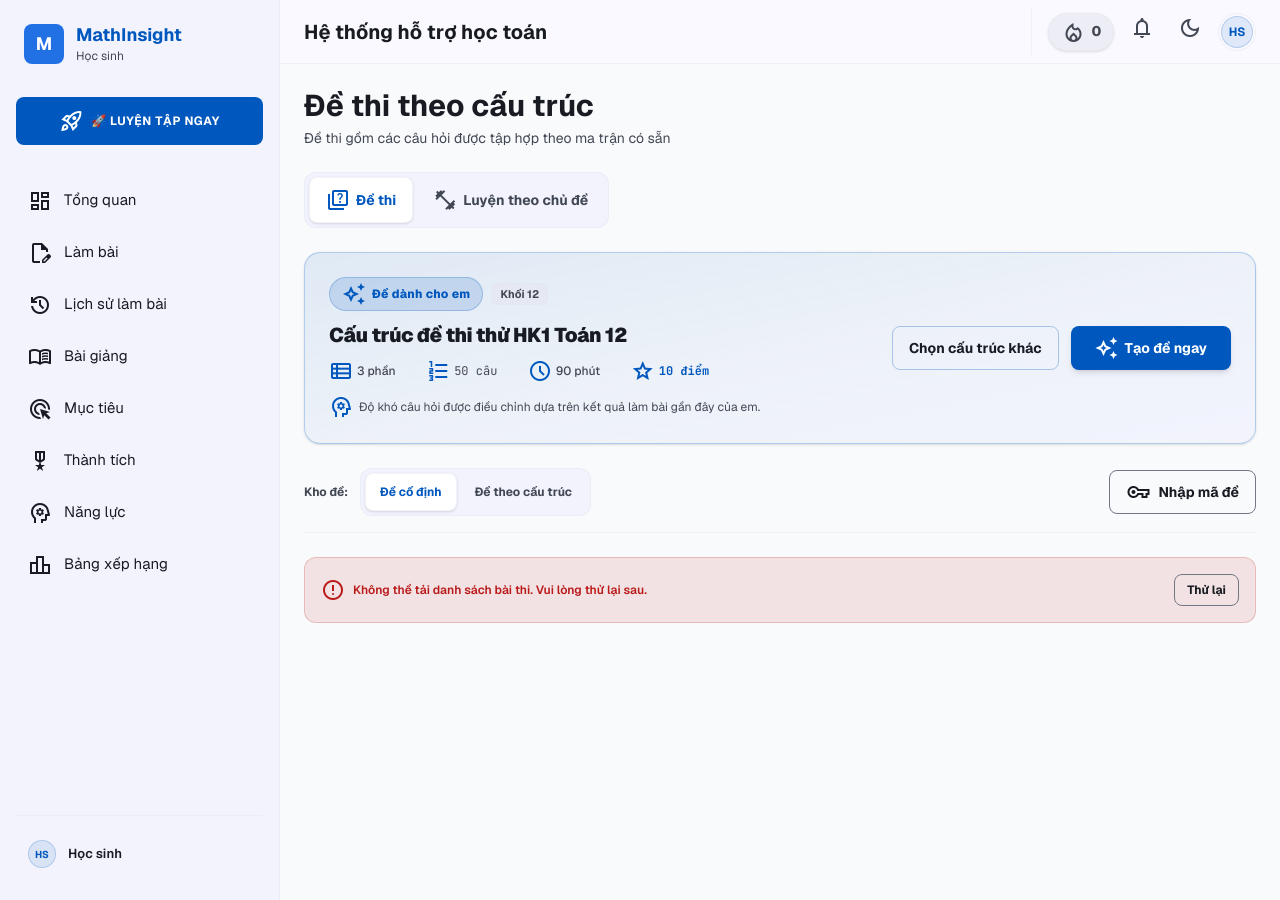
SharedBlueprintExamDiscoveryPage - Redesign & Featured Adaptive Panel › isolates error state to active tab and recovers on tab switch
Expected: the text "Không thể tải danh sách bài thi. Vui lòng thử lại sau." is shown, 353,582 -> 647,598
Click the tab "Đề theo cấu trúc" at (523, 492), box 461,473 -> 586,511
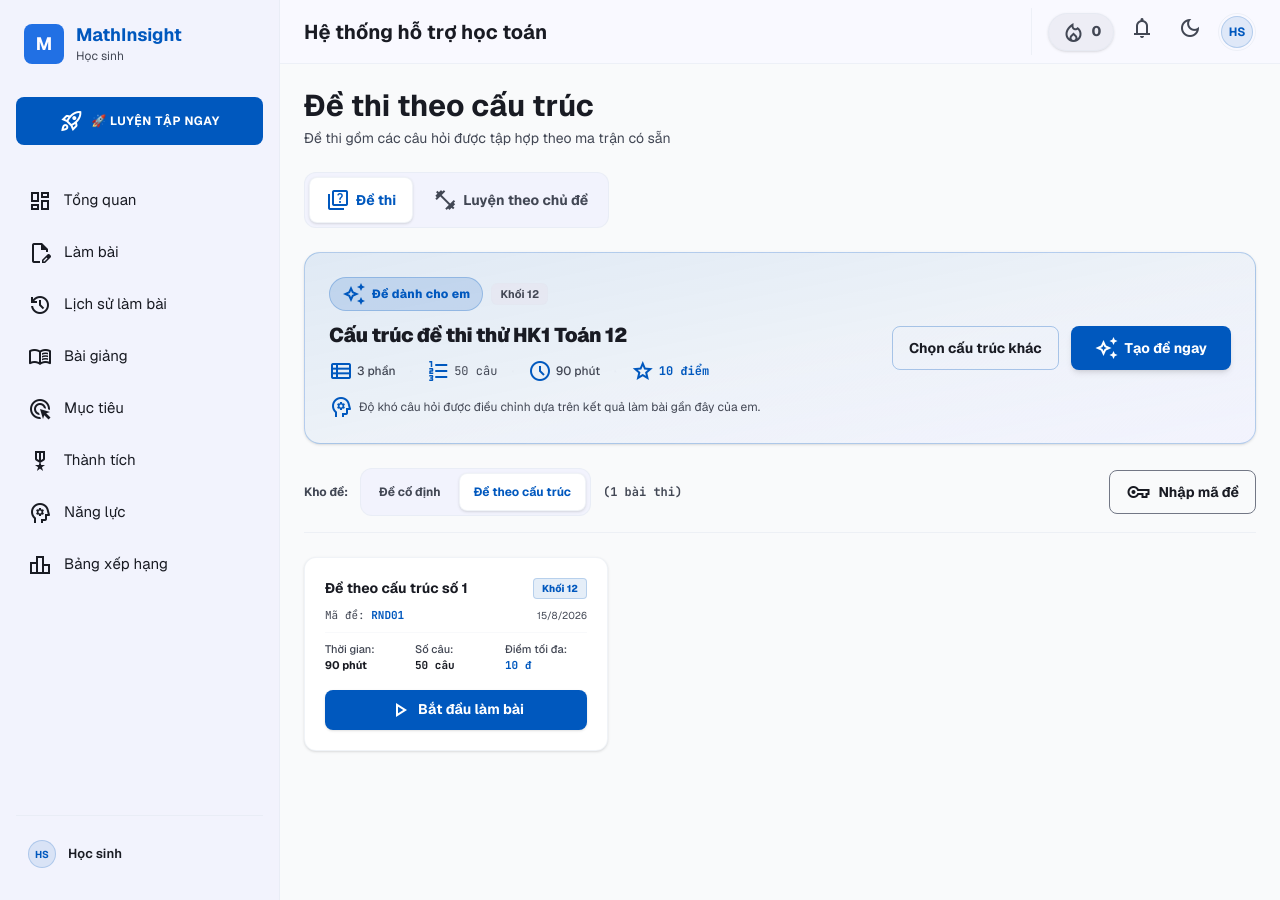
Expected: the heading "Đề theo cấu trúc số 1" is shown, 325,578 -> 468,598
Expected: the text "Không thể tải danh sách bài thi. Vui lòng thử lại sau." is gone
